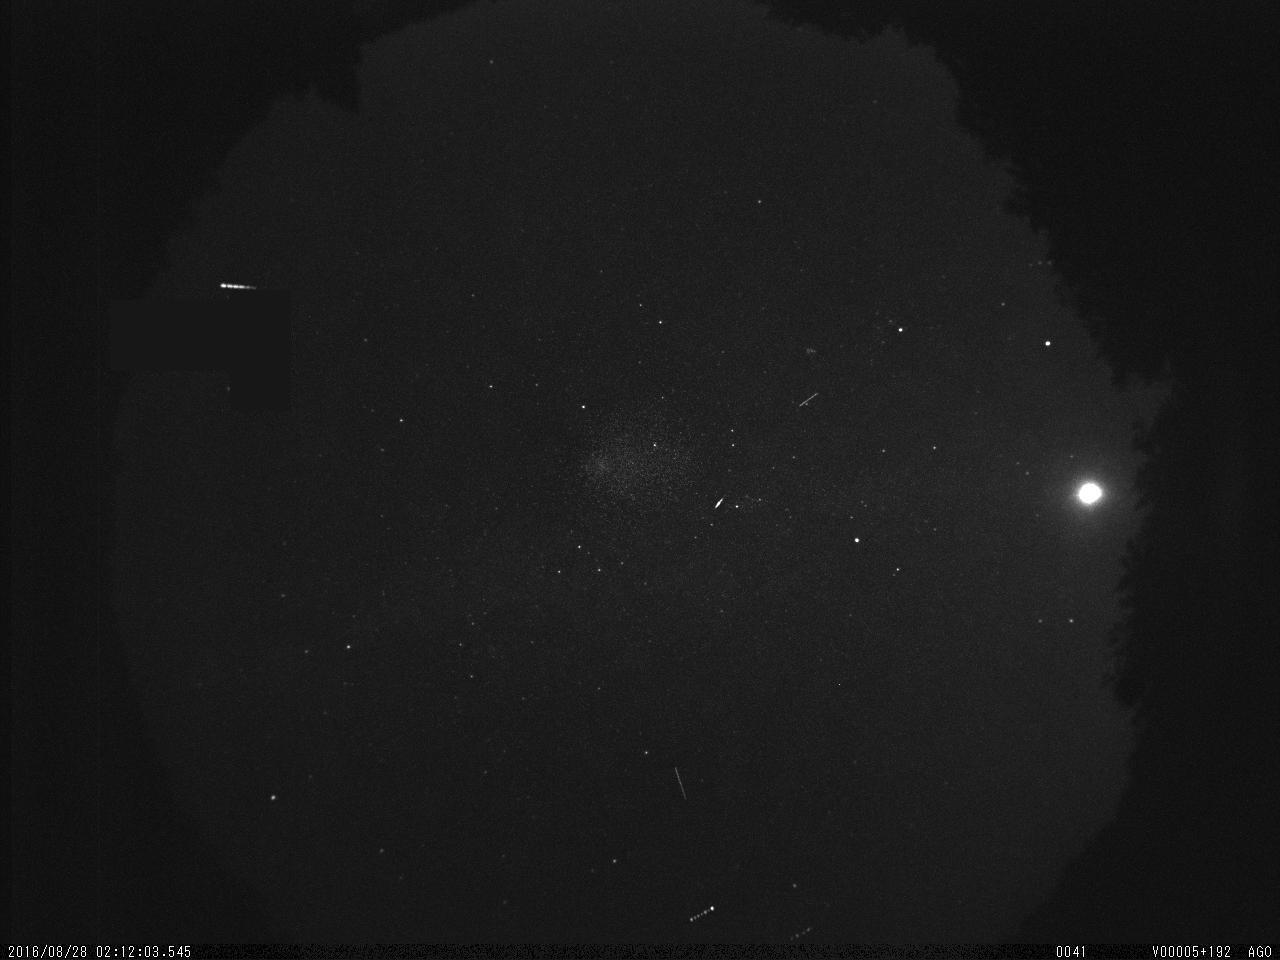Meteor: (216, 280, 258, 292), (709, 491, 728, 514)
